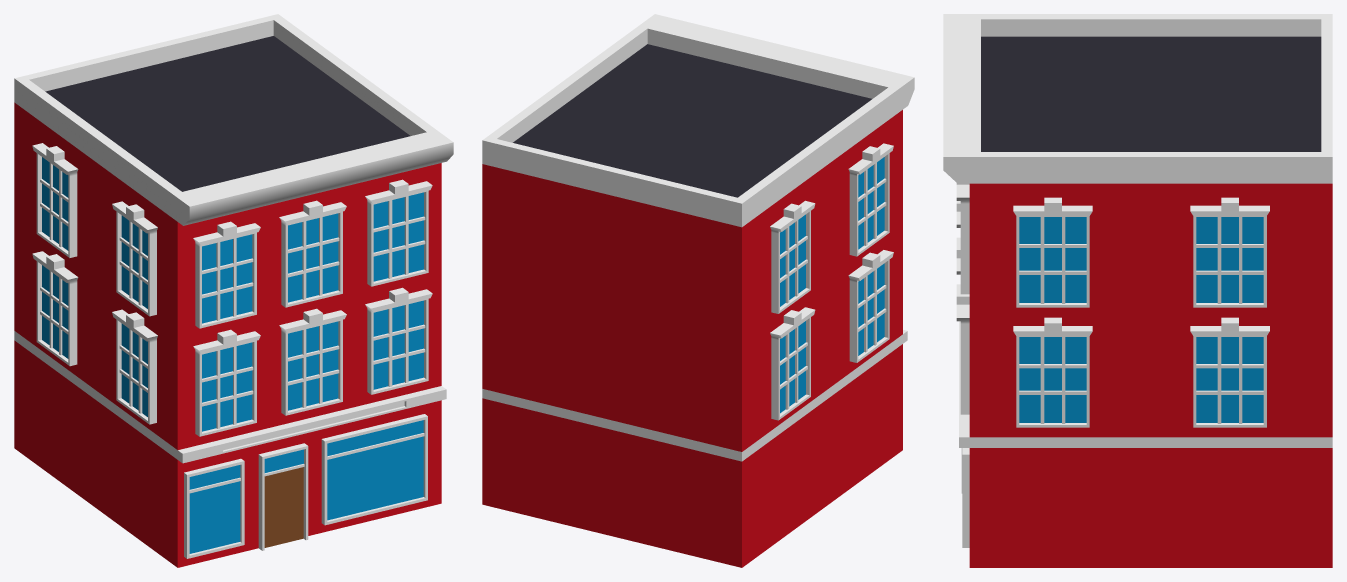
The model's file is Building_16.fbx.
The picture shows the model from 3 angles, left to right: view 1: azimuth 30°, elevation 25°; view 2: azimuth 150°, elevation 25°; view 3: azimuth 270°, elevation 25°; orthographic projection. The views are drawn at different scales.
Parts seen in each view (by area): view 1: B16; view 2: B16; view 3: B16.
Part boxes in pixels (<box>): B16: <box>14,14,453,567</box>; B16: <box>482,14,914,567</box>; B16: <box>943,14,1332,567</box>.
Bounding box in the file's own units: 12.4 × 15.41 × 13.24.
1 material, 1 textured.
